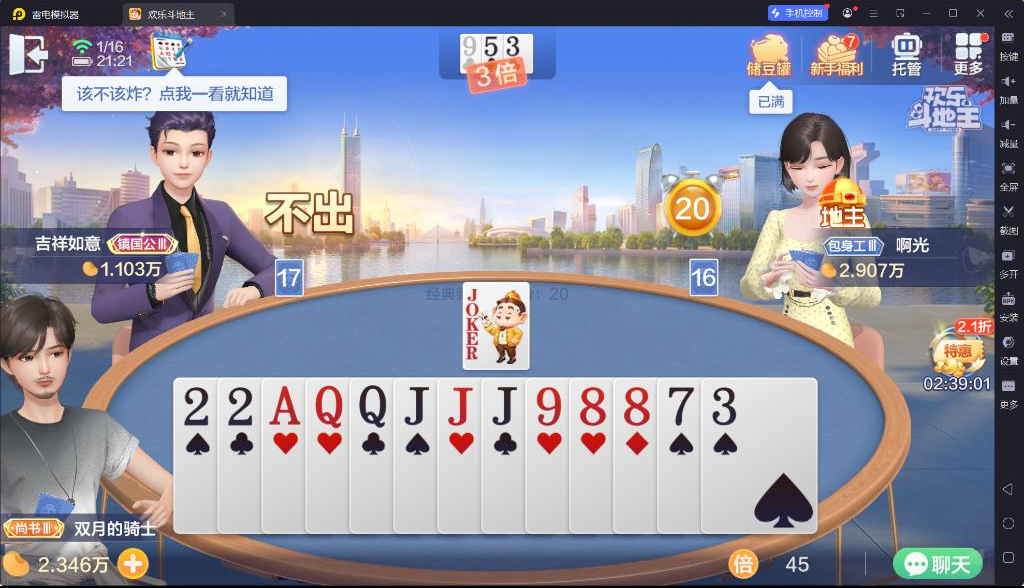A: (268, 383, 302, 429)
J: (444, 384, 476, 428), (399, 384, 430, 427), (489, 385, 520, 427)
JOKER: (464, 285, 484, 336)
Q: (313, 383, 345, 429), (357, 383, 389, 429)
eight: (577, 385, 610, 427), (620, 385, 653, 427)
five: (483, 35, 500, 58)
nine: (532, 385, 564, 427), (462, 35, 478, 57)
seven: (664, 386, 696, 429)
three: (709, 384, 739, 427), (505, 35, 521, 58)
two: (225, 385, 255, 427), (181, 386, 210, 429)
